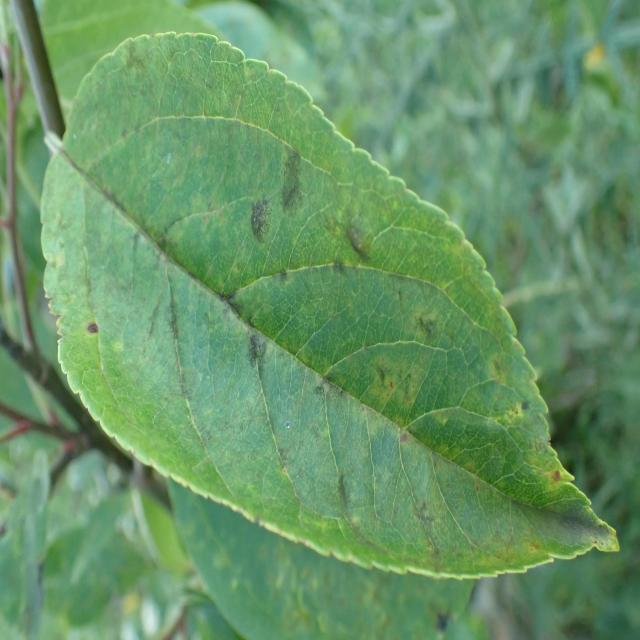scab: (56, 64, 607, 593)
